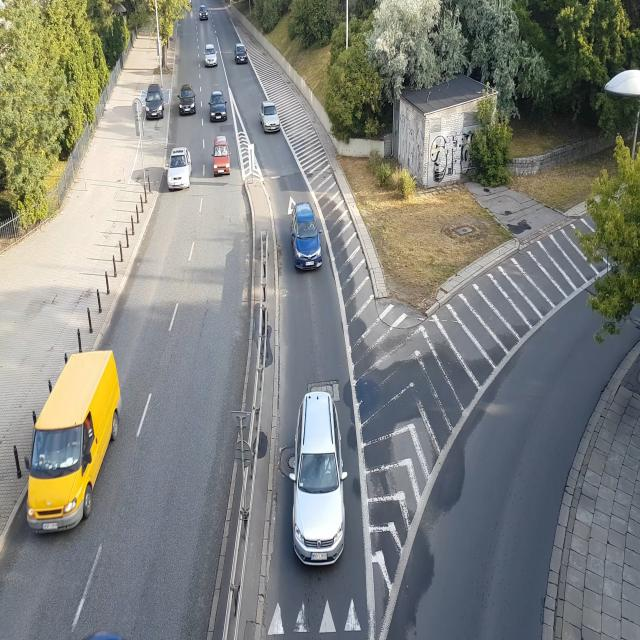car: (23, 342, 128, 536), (288, 387, 349, 568), (290, 194, 326, 284), (165, 143, 193, 192), (259, 95, 285, 140), (142, 79, 166, 126), (210, 134, 233, 180), (208, 82, 230, 123), (199, 35, 221, 76), (230, 38, 256, 71), (177, 83, 199, 118), (197, 1, 211, 30)
